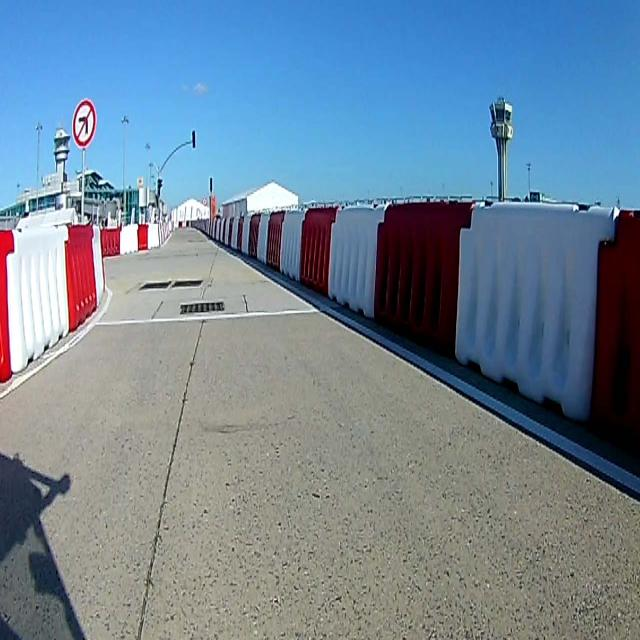soladonulmez: (73, 98, 96, 146)
